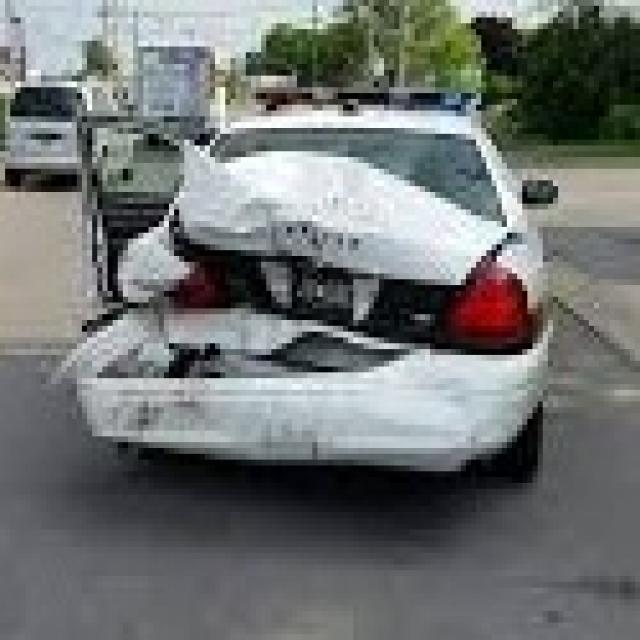severe: (26, 59, 382, 462)
